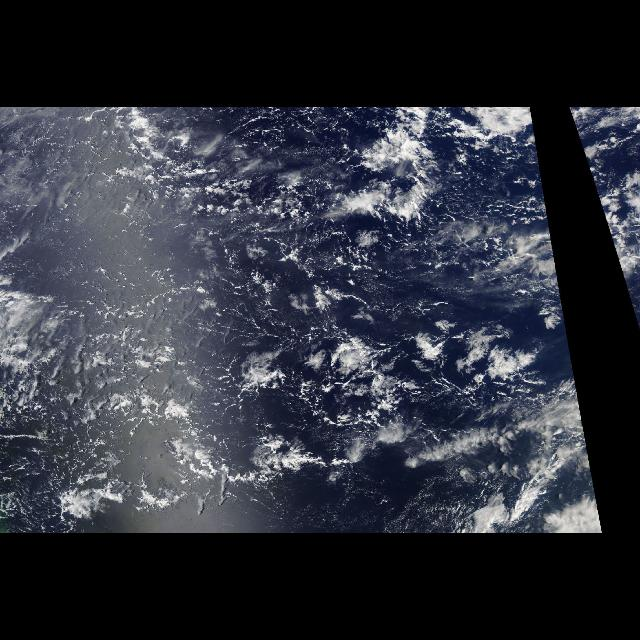Gravel: (84, 191, 278, 365)
Sugar: (28, 141, 312, 431)
